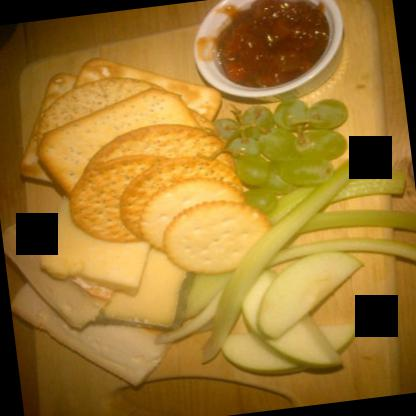cookie: (94, 116, 236, 204), (66, 147, 192, 245), (114, 152, 248, 240), (160, 195, 274, 278), (138, 172, 250, 256)
parmesan cheese: (8, 263, 178, 394), (0, 208, 113, 328)
